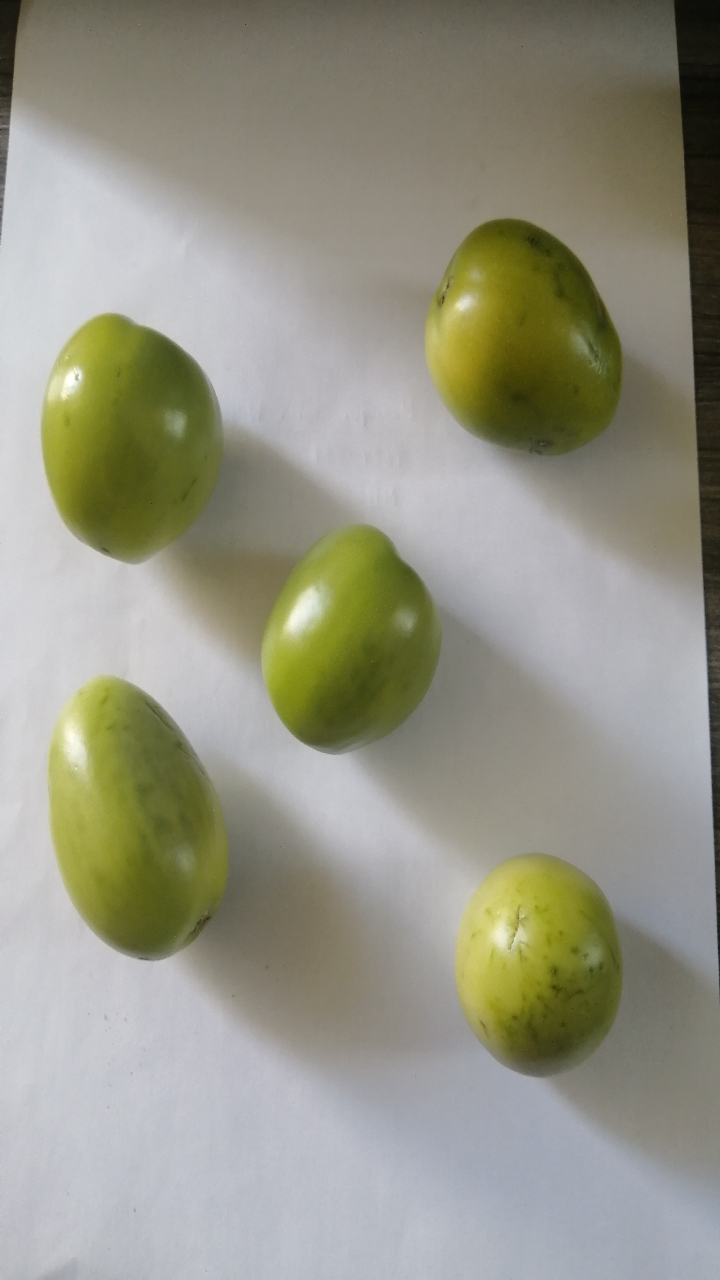tomateVerde: (9, 655, 271, 980), (408, 191, 631, 477), (432, 808, 652, 1083), (32, 299, 241, 562), (269, 519, 463, 791)
